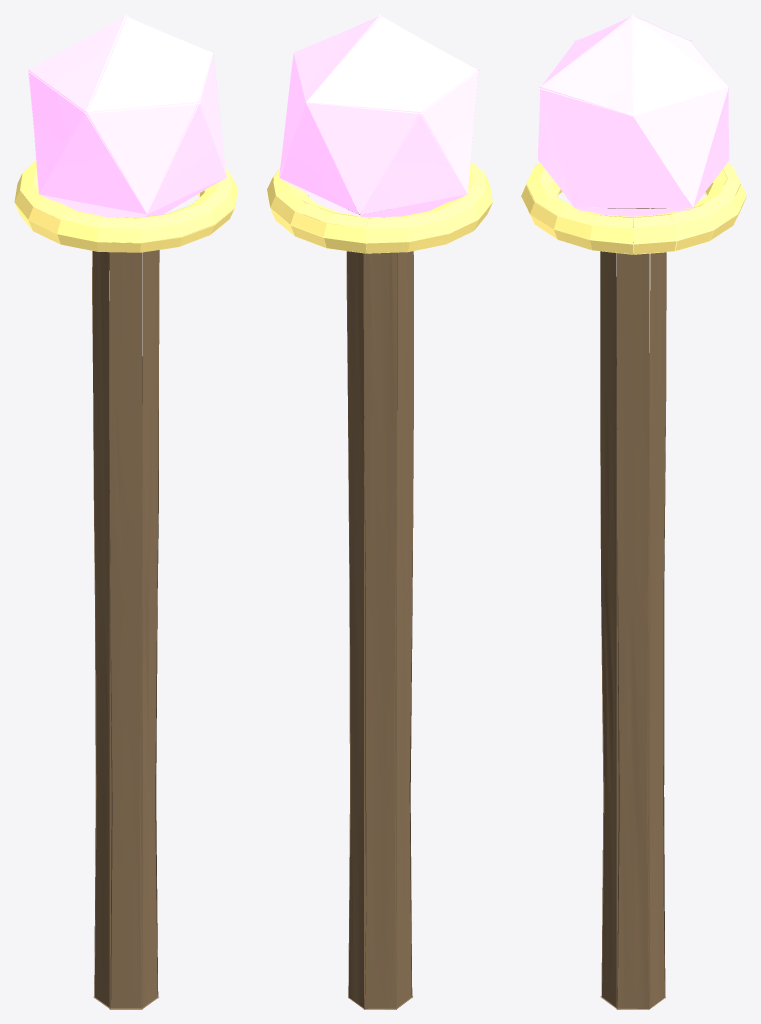
The model's file is staff.glb.
3 renders of one model, left to right at view 1: azimuth 30°, elevation 25°; view 2: azimuth 150°, elevation 25°; view 3: azimuth 270°, elevation 25°, orthographic.
Parts seen in each view (by area): view 1: StaffShaft; view 2: StaffShaft; view 3: StaffShaft.
Part boxes in pixels (x1,y1,x2,y2): StaffShaft: [14, 14, 238, 1009]; StaffShaft: [267, 14, 492, 1009]; StaffShaft: [521, 14, 746, 1009].
Bounding box in the file's own units: 0.4824 × 2.3 × 0.4794.
